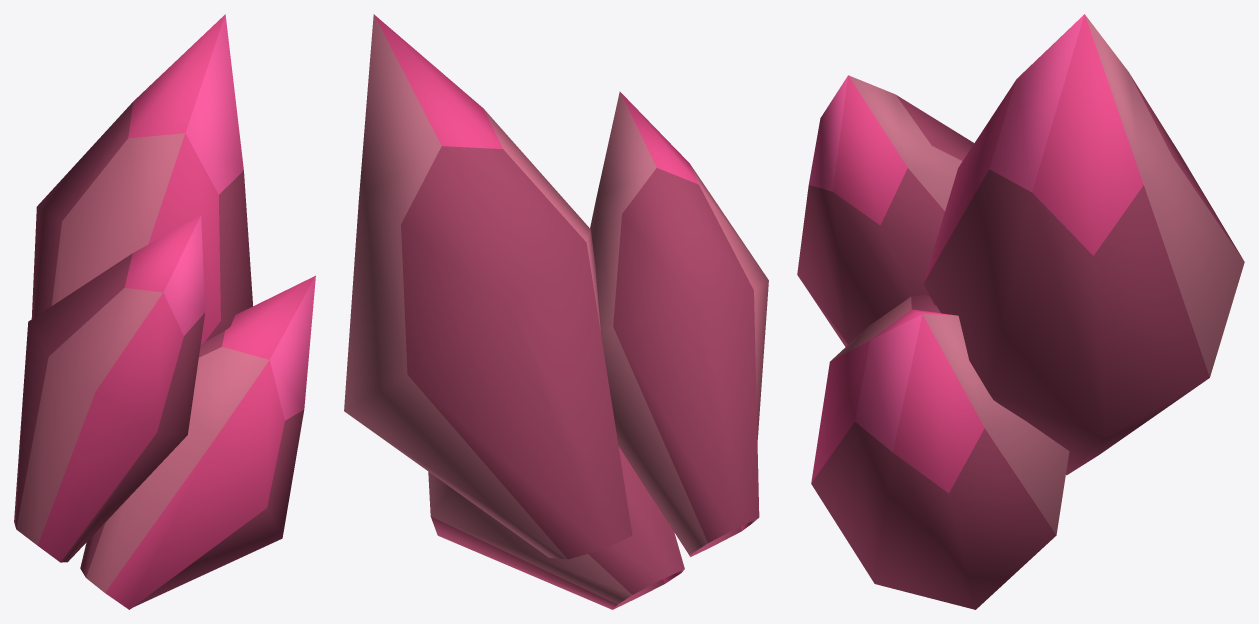
File: PortalRuby.glb
3 views of the same model, side by side, from view 1: azimuth 30°, elevation 25°; view 2: azimuth 150°, elevation 25°; view 3: azimuth 270°, elevation 25° (orthographic). The views are drawn at different scales.
Visible parts, largest first — view 1: PortalRuby; view 2: PortalRuby; view 3: PortalRuby.
Boxes of the visible parts, <box> form: PortalRuby: <box>14,14,315,609</box>; PortalRuby: <box>344,14,768,609</box>; PortalRuby: <box>797,14,1244,609</box>.
Bounding box in the file's own units: 1.4 × 2.31 × 1.44.
1 material, 1 textured.
